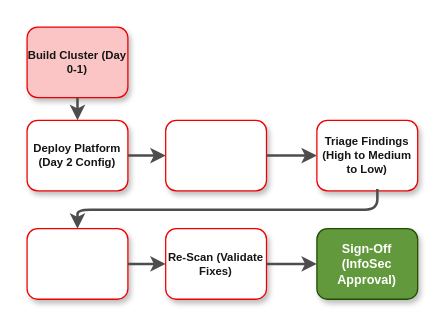
Image size: 447x330. Some labels were removed from this diagram. The shapes that lost their labels are listed below. From the top down, each one's centre as x and y in pixels, then its label:
point (216, 157): {SCANNING_VENDOR} CIS Scan (OCP + OCP-V)
point (78, 265): Remediate (High-Severity First)
